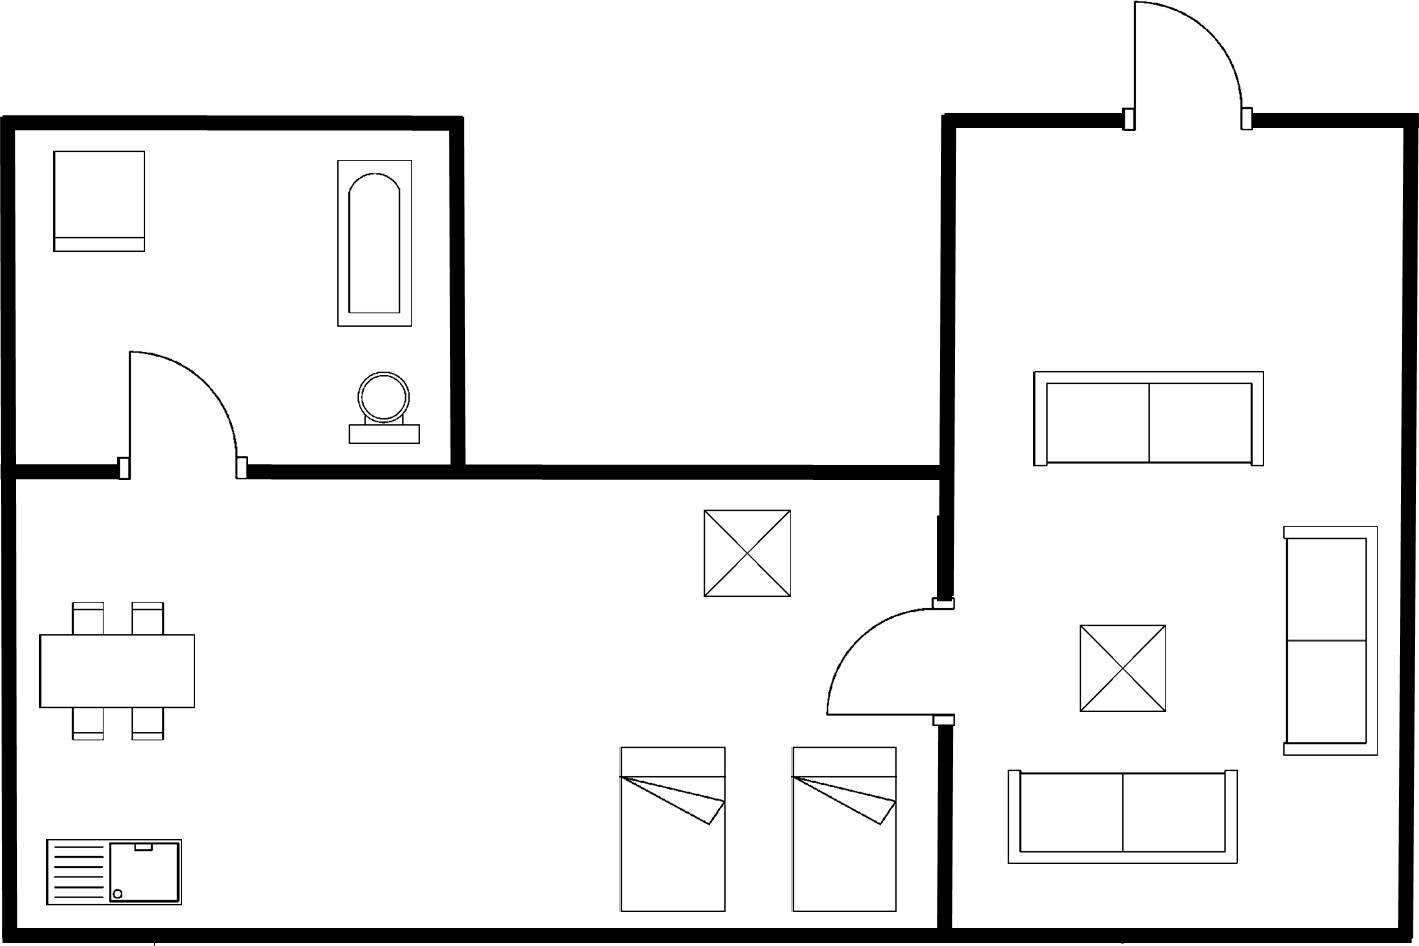bed: (613, 739, 731, 918), (786, 740, 902, 919)
coffee_table: (697, 503, 796, 606), (1071, 619, 1173, 718)
dining_table: (33, 596, 209, 743)
large_sink: (341, 366, 424, 449)
large_sofa: (1002, 760, 1247, 871), (1025, 363, 1274, 470), (1277, 520, 1383, 763)
sink: (38, 833, 188, 911)
small_sofa: (48, 145, 150, 260)
tub: (329, 155, 416, 332)
